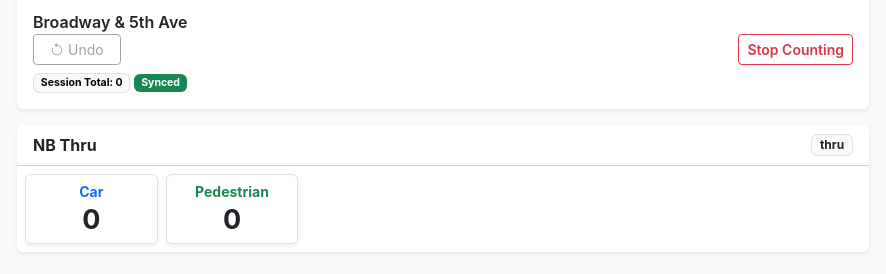
Test: FlowCounter Frontend Component Tests › undo button properly removes the last tally event and decrements counter
Expected: the button "Undo" is disabled, [33,34,121,65]
Click the button "Car 0": (91, 209) [25,174,158,244]
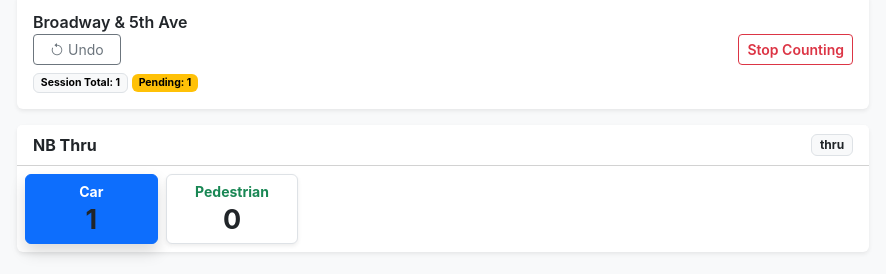
Click the button "Car 1": (91, 209) [25,174,158,244]
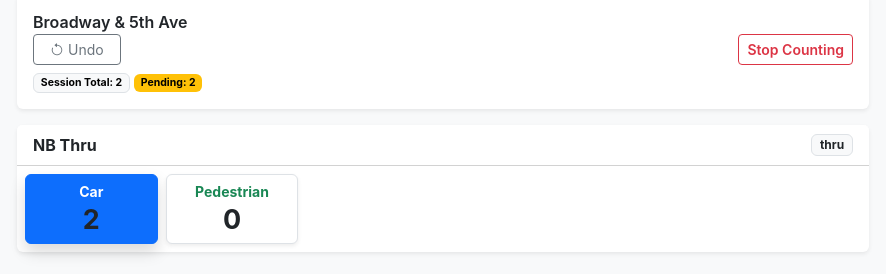
Expected: the button "Undo" is enabled
Expected: the button "Car 2" is shown, [25,174,158,244]
Click the button "Undo": (77, 50) [33,34,121,65]
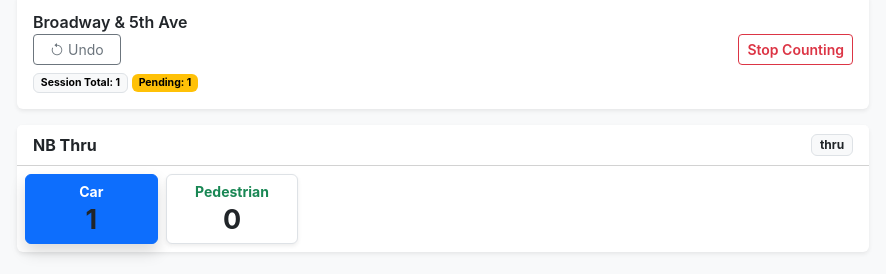
Expected: the button "Car 1" is shown, [25,174,158,244]
Click the button "Undo": (77, 50) [33,34,121,65]
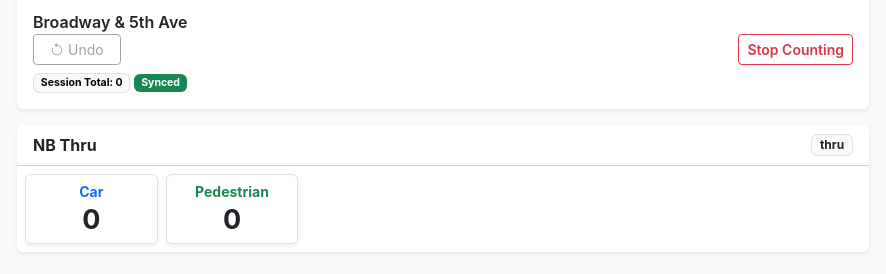
Expected: the button "Car 0" is shown, [25,174,158,244]
Expected: the button "Undo" is disabled, [33,34,121,65]
